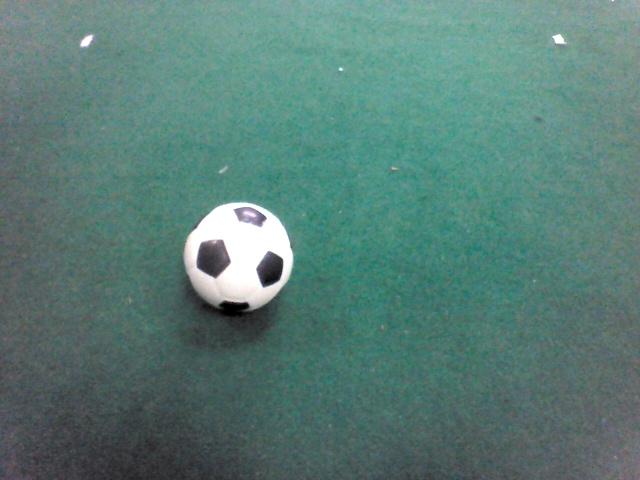ball: (181, 199, 295, 316)
